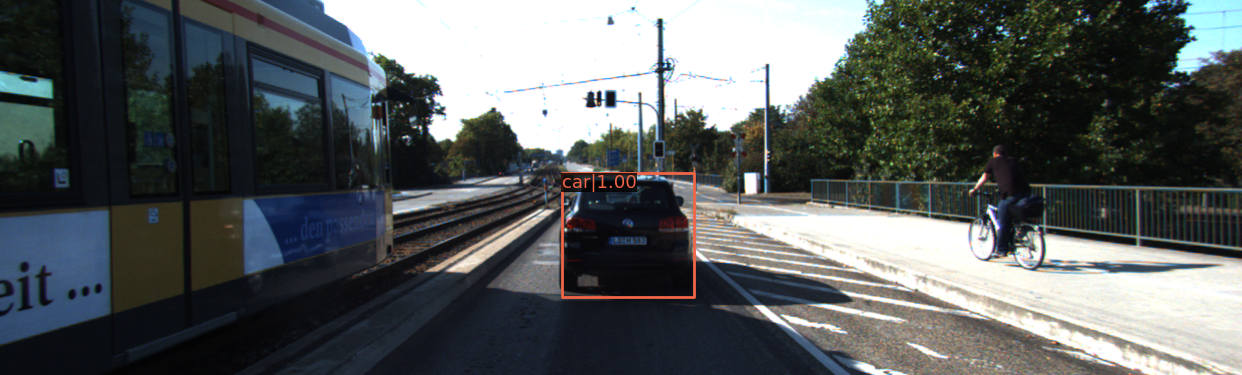car: (563, 173, 690, 295)
